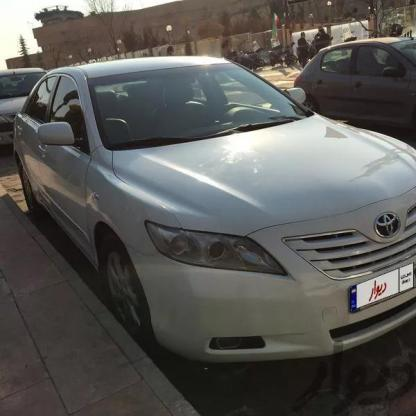Car: (11, 54, 416, 386), (291, 29, 416, 155), (0, 69, 49, 158)
